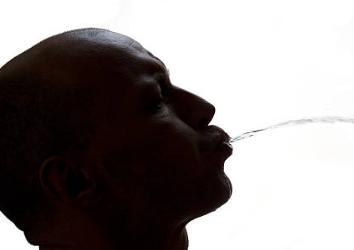Spitting: (3, 9, 294, 227)
